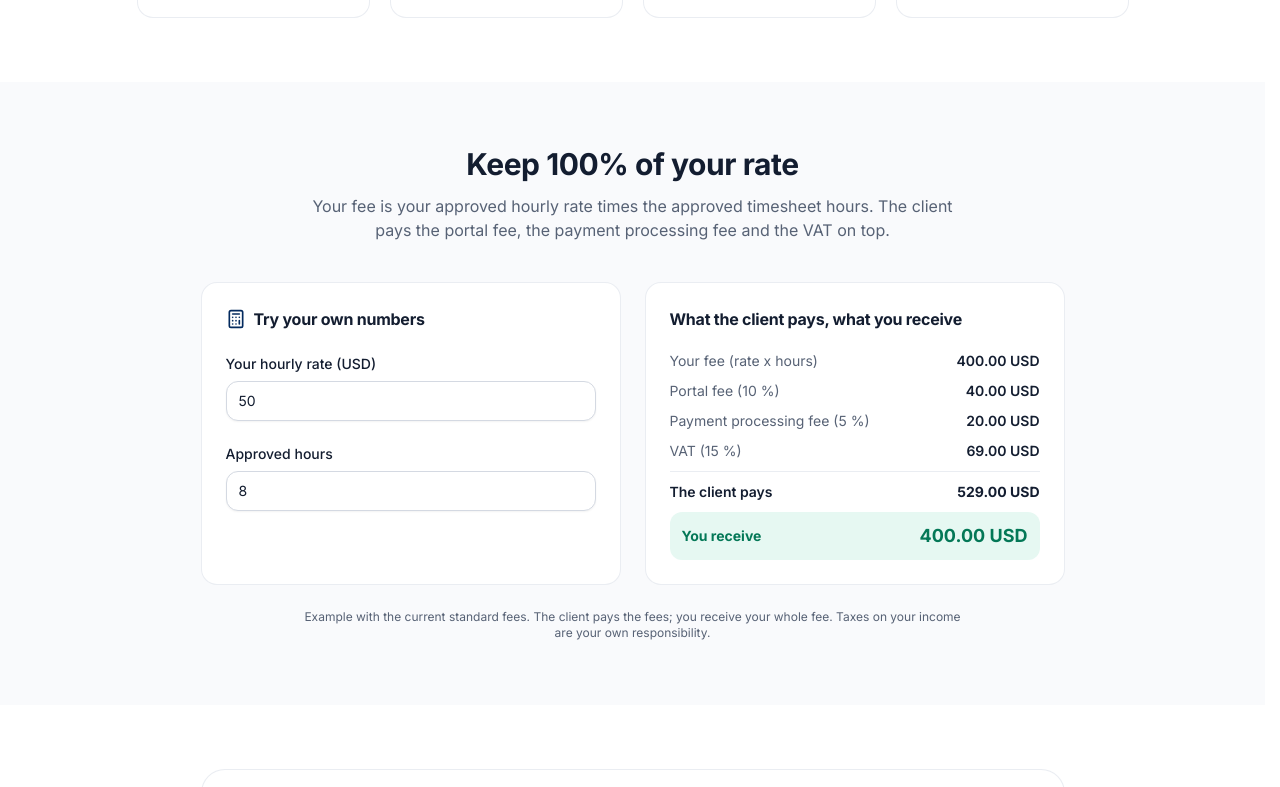
it: ForConsultantsPage › validates the calculator inputs
The width and height of the screenshot is (1280, 787).
(page scrolled)
Replace the text in the number field labelled "Your hourly rate (USD)" with "0" at (410, 400), box [226,380,596,420]
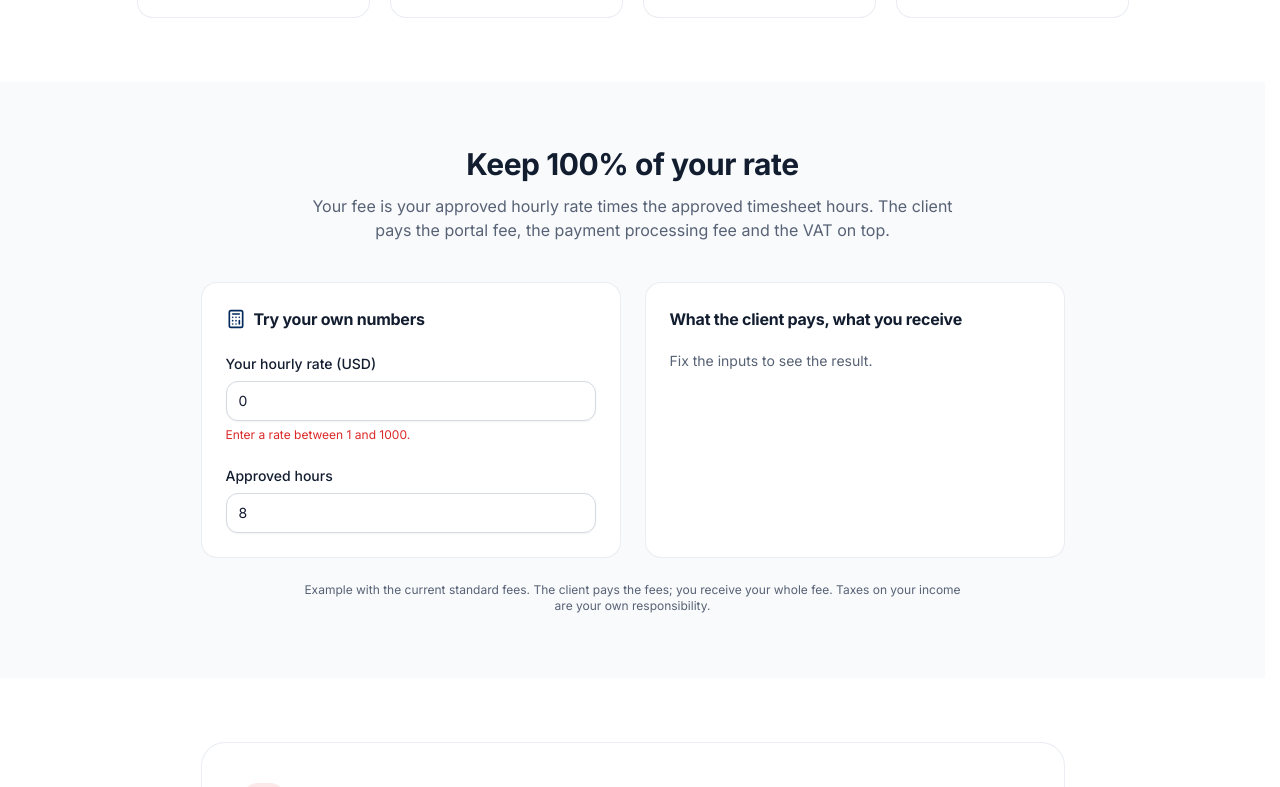
Now the text "Enter a rate between 1 and 1000." is shown, box [226,426,410,442]
Now the text "Fix the inputs to see the result." is shown, box [670,352,872,368]
